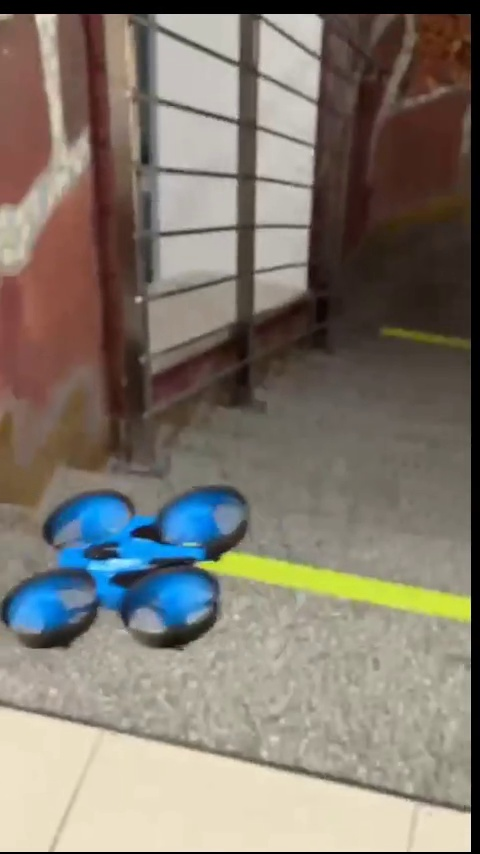drone: (9, 484, 254, 652)
